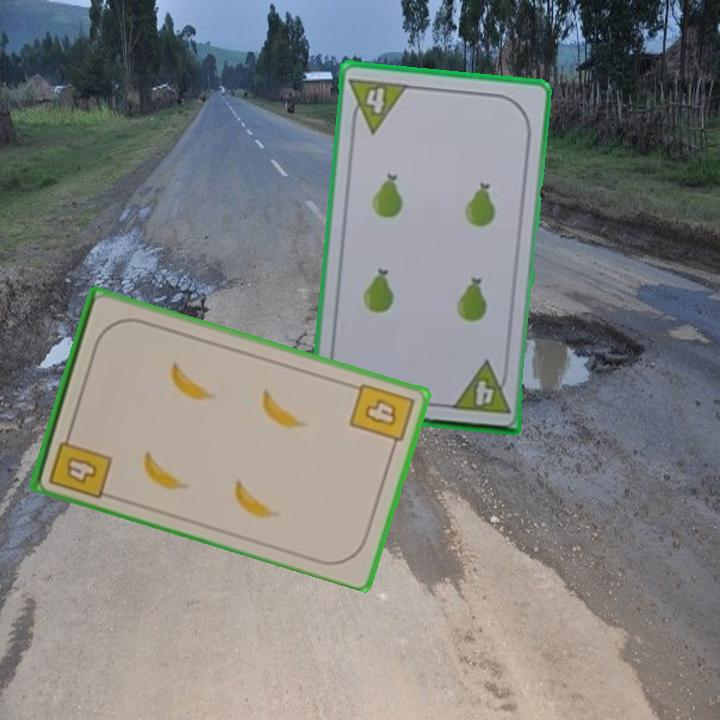4b: (345, 379, 417, 454), (45, 424, 115, 501)
4p: (346, 74, 411, 136), (448, 358, 513, 417)
